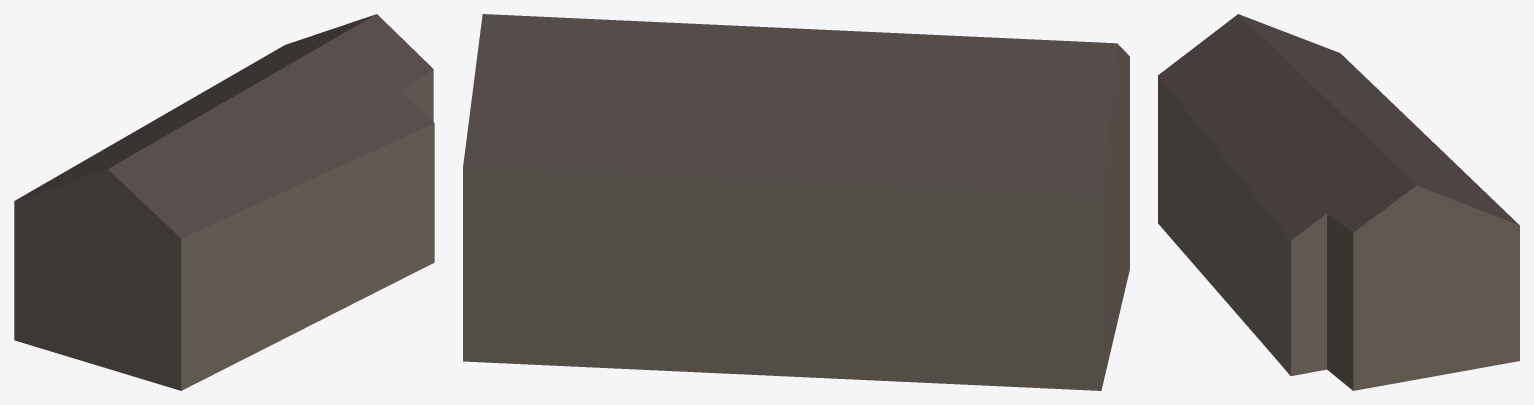
The picture shows the model from 3 angles, left to right: view 1: azimuth 30°, elevation 25°; view 2: azimuth 150°, elevation 25°; view 3: azimuth 270°, elevation 25°; orthographic projection. The views are drawn at different scales.
Visible parts, largest first — view 1: HP-w1512480740; view 2: HP-w1512480740; view 3: HP-w1512480740.
Boxes of the visible parts, left/top/right/bottom form: HP-w1512480740: left=14, top=14, right=434, bottom=390; HP-w1512480740: left=463, top=14, right=1129, bottom=390; HP-w1512480740: left=1158, top=14, right=1519, bottom=390.
Size of the model in its own units: 28.82 by 12.9 by 21.79.
